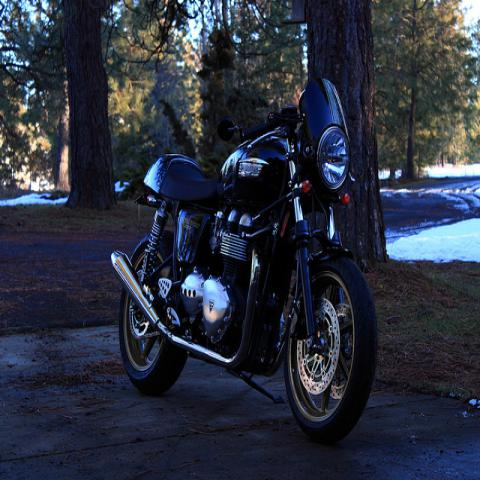motorcycle: (112, 81, 379, 445)
